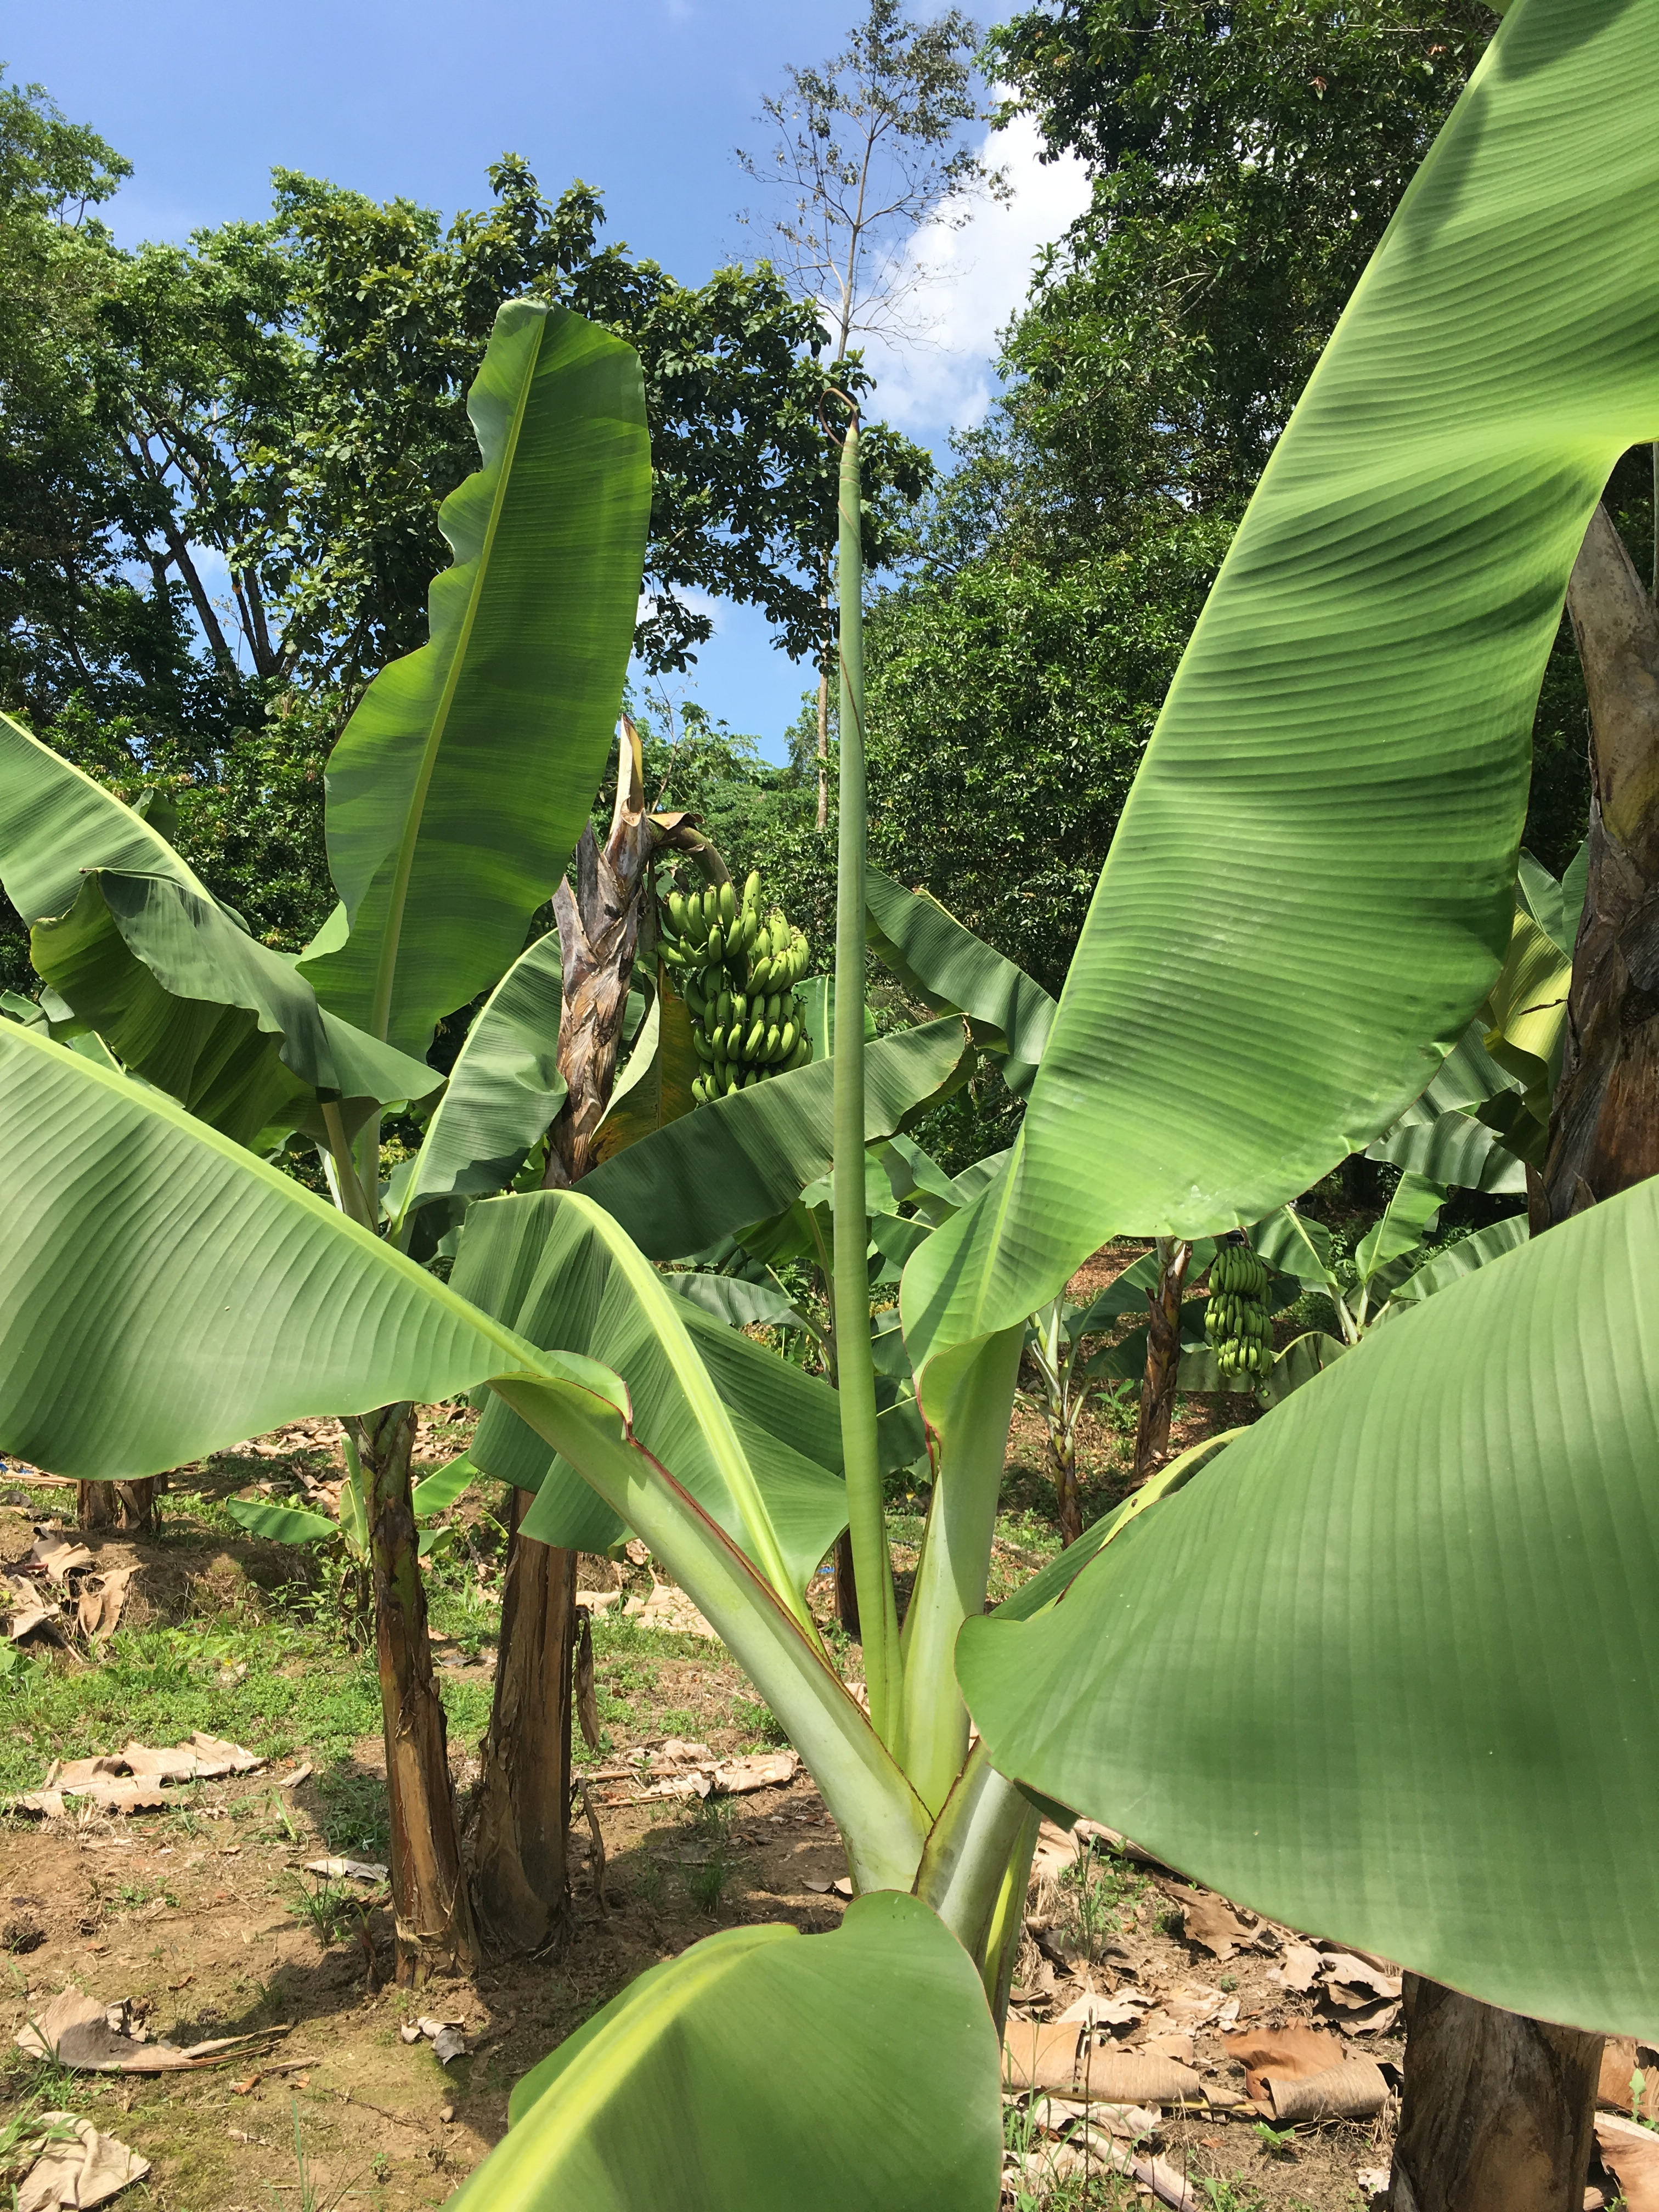candleleafs: (816, 423, 890, 1658)
